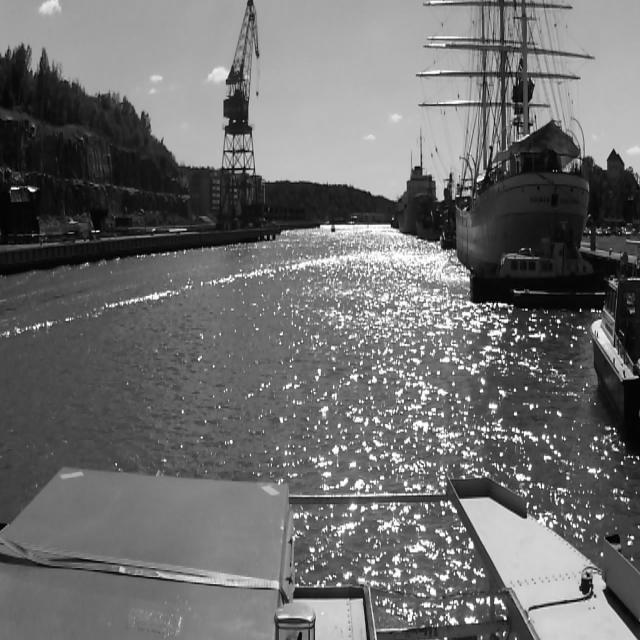ship: (416, 3, 596, 289), (467, 234, 613, 306), (590, 256, 640, 436), (392, 165, 441, 232), (438, 172, 464, 233), (416, 174, 438, 239), (440, 220, 458, 252), (330, 223, 336, 233)
